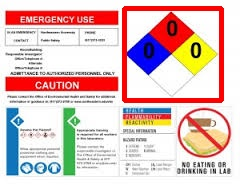nfpa: (124, 8, 221, 100)
